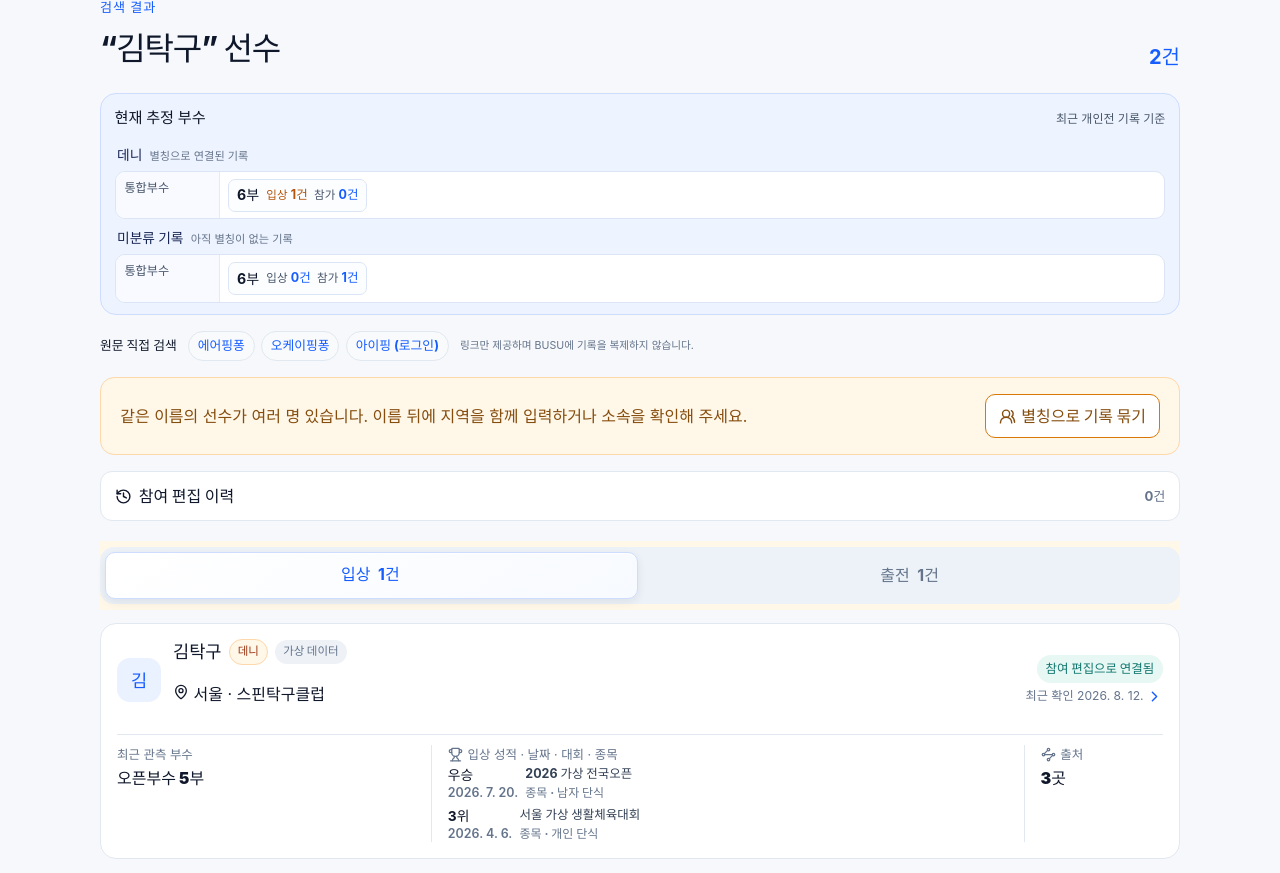
it: SearchResultsPage › separates current division summaries and filters by a verified nickname
This screenshot has width=1280, height=873.
Expected: the heading "데니" is shown, [117,145,142,166]
Expected: the heading "미분류 기록" is shown, [117,228,184,250]
Click the button with aria-label "데니, 통합부수 6부 입상 1건 참가 0건 결과 보기" at (298, 195), box [228,179,367,212]
(page scrolled)
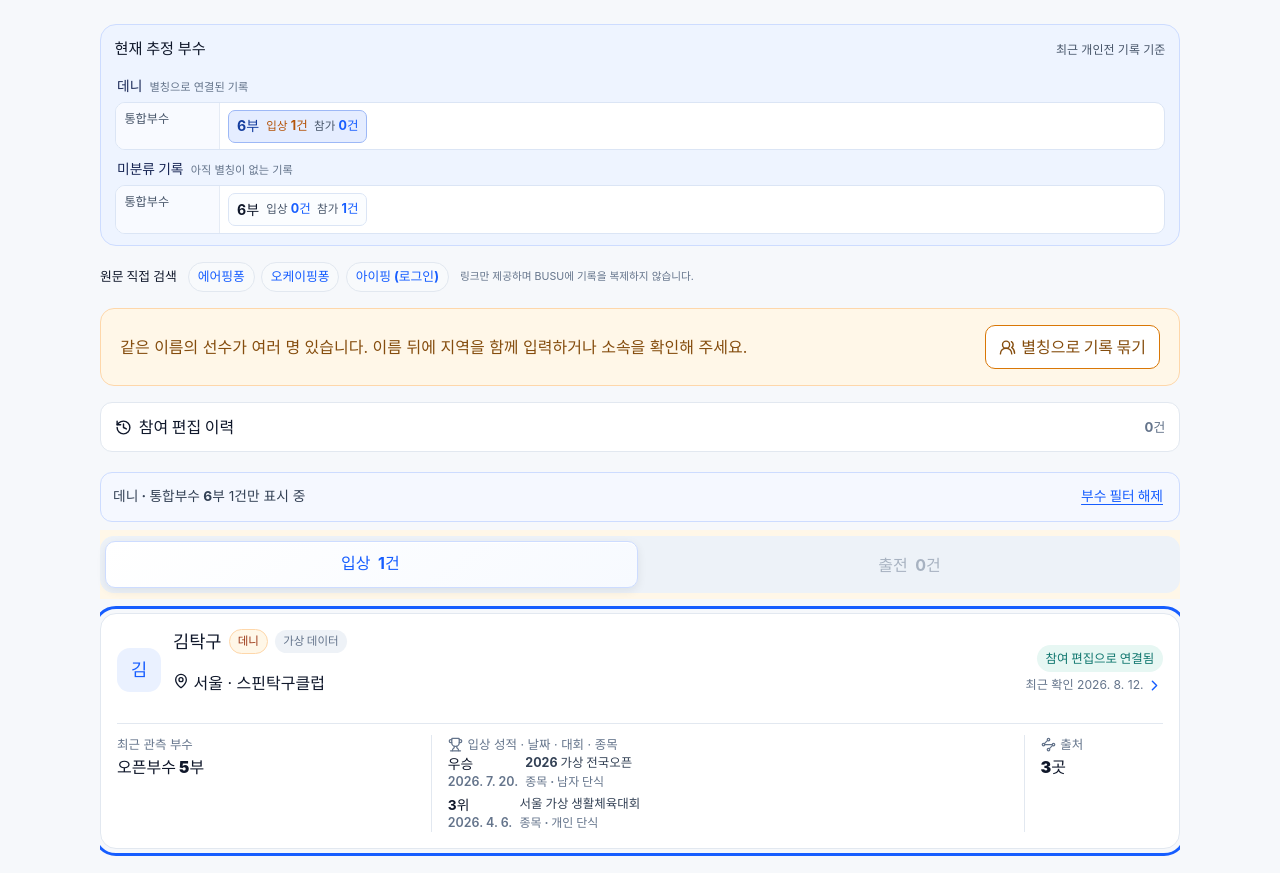
Expected: the link with aria-label "김탁구 데니 서울 스핀탁구클럽 상세 기록 보기" is shown, [100,612,1180,849]
Result: the text "데니 · 통합부수 6부" is shown at [113,488,225,504]
